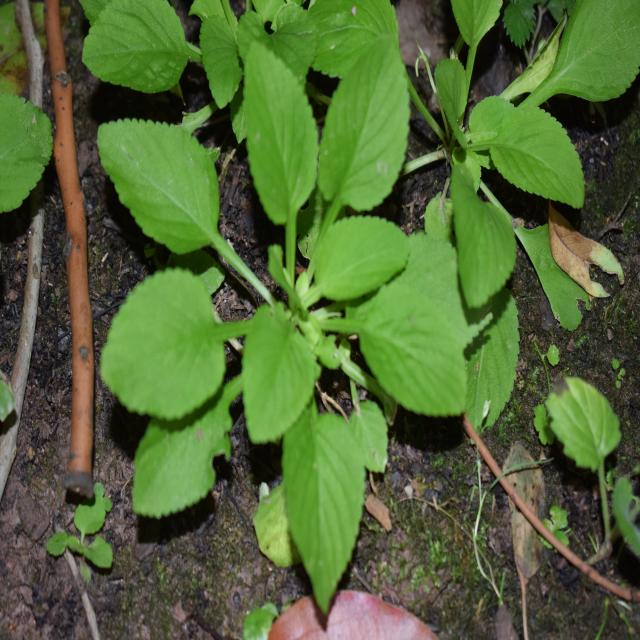Viola: (97, 21, 451, 599)
